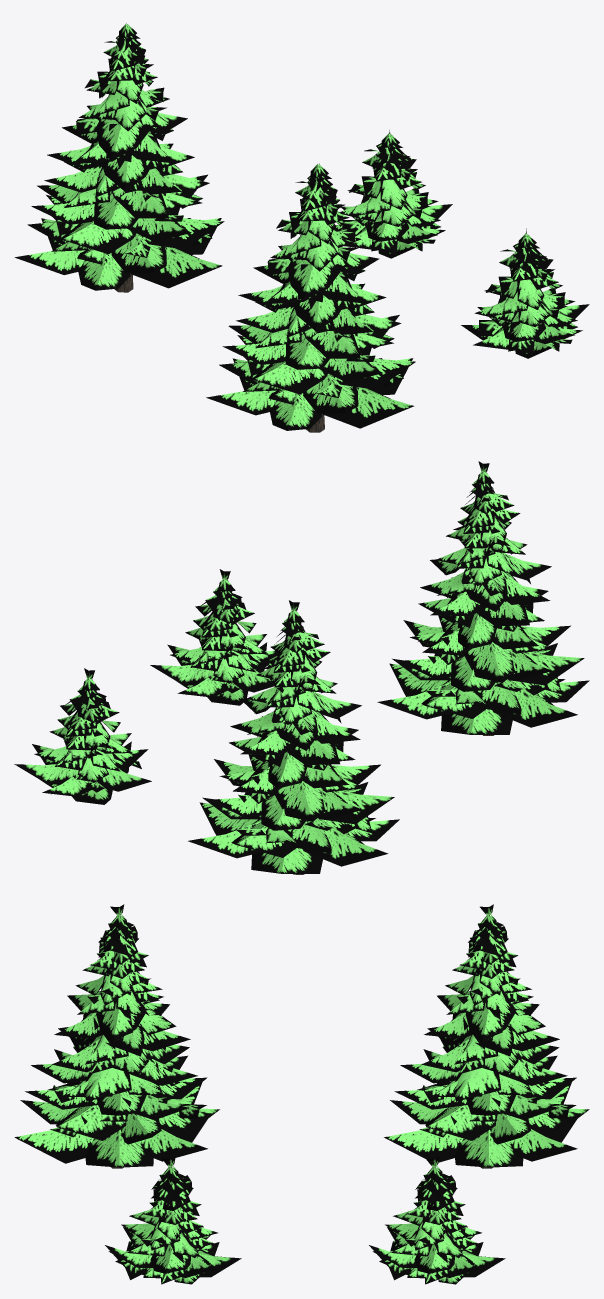
Rendered from tree.glb.
3 renders of one model, top to bottom at view 1: azimuth 30°, elevation 25°; view 2: azimuth 150°, elevation 25°; view 3: azimuth 270°, elevation 25°, orthographic. The views are drawn at different scales.
Visible parts, largest first — view 1: pine_trunk_15m_1_2, pine_trunk_15m_1, pine_trunk_7m_1, pine_trunk_7m_1_2; view 2: pine_trunk_15m_1, pine_trunk_15m_1_2, pine_trunk_7m_1_2, pine_trunk_7m_1; view 3: pine_trunk_15m_1, pine_trunk_15m_1_2, pine_trunk_7m_1, pine_trunk_7m_1_2.
Part boxes in pixels (box(x1,y1,x2,y2)): pine_trunk_15m_1_2: box(14, 23, 224, 290); pine_trunk_15m_1: box(206, 164, 415, 430); pine_trunk_7m_1: box(461, 232, 589, 358); pine_trunk_7m_1_2: box(333, 132, 452, 258); pine_trunk_15m_1: box(377, 461, 589, 734); pine_trunk_15m_1_2: box(188, 600, 399, 873); pine_trunk_7m_1_2: box(14, 668, 151, 804); pine_trunk_7m_1: box(150, 569, 279, 705); pine_trunk_15m_1: box(14, 904, 219, 1167); pine_trunk_15m_1_2: box(384, 904, 589, 1167); pine_trunk_7m_1: box(105, 1156, 241, 1284); pine_trunk_7m_1_2: box(369, 1156, 505, 1284).
Size of the model in its own units: 0.1687 by 0.1095 by 0.2182.
Materials: 3 (3 with a texture image).
